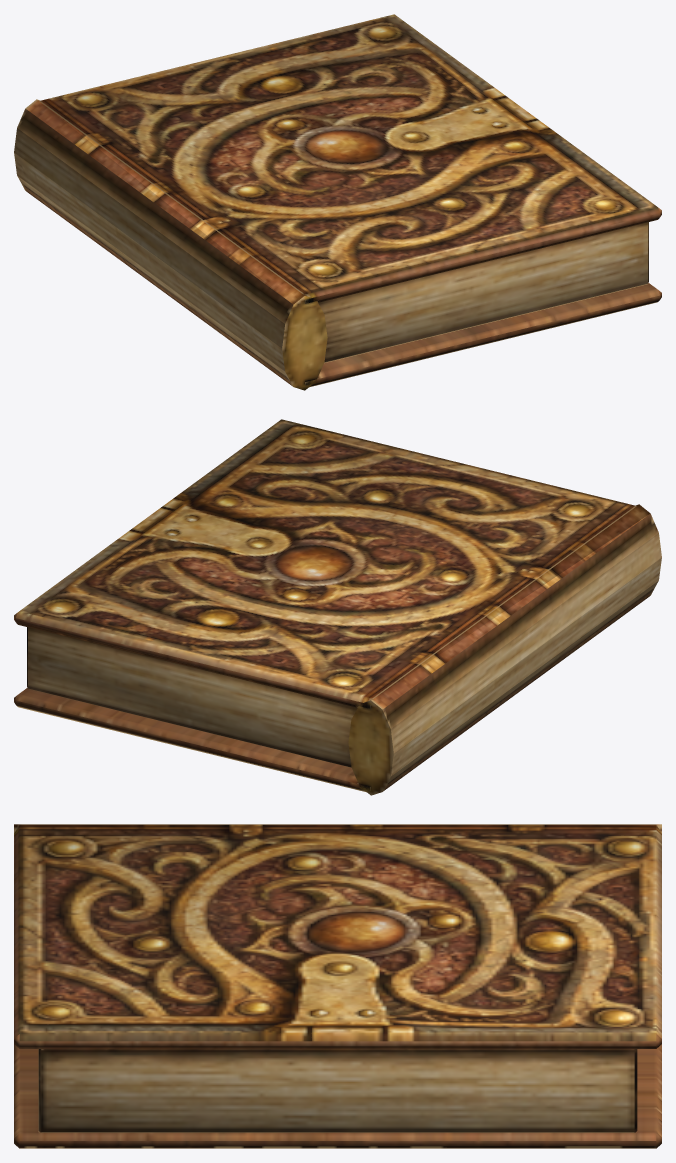
File: item_mm9_10242.glb
3 renders of one model, top to bottom at view 1: azimuth 30°, elevation 25°; view 2: azimuth 150°, elevation 25°; view 3: azimuth 270°, elevation 25°, orthographic. The views are drawn at different scales.
Visible parts, largest first — view 1: d10242; view 2: d10242; view 3: d10242.
Part boxes in pixels (box(x1,y1,x2,y2)): d10242: box(14, 14, 661, 390); d10242: box(14, 419, 661, 795); d10242: box(14, 824, 661, 1148).
Bounding box in the file's own units: 53.32 × 12.68 × 64.8.
1 material, 1 textured.
